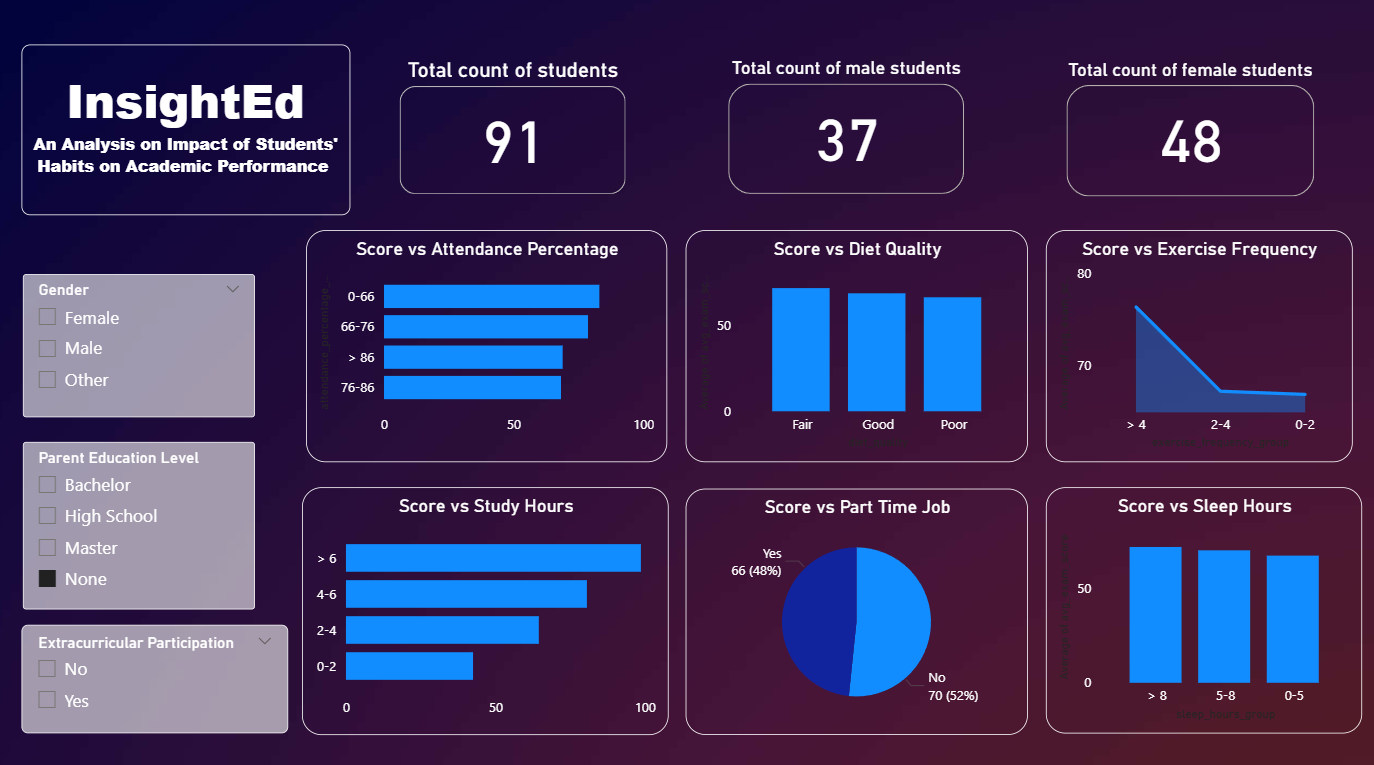

The dashboard page shown, as its layout file describes it:
{"tool":"powerbi","page":{"name":"Page 1","canvas":[1280,720],"ordinal":0},"visuals":[{"type":"cardVisual","title":"Total count of students","fields":{"Data":["Sum(dataset.count_of_students)"]},"box":[369.9,57.2,219.9,132.2],"z":0},{"type":"cardVisual","title":"Total count of female students","fields":{"Data":["Sum(dataset.count_of_students)"]},"box":[985.8,58.5,239.5,133],"z":1000},{"type":"cardVisual","title":"Total count of male students","fields":{"Data":["Sum(dataset.count_of_students)"]},"box":[673.1,57.2,228.8,131.7],"z":2000},{"type":"barChart","title":"Score vs Attendance Percentage","fields":{"Category":["dataset.attendance_percentage_group"],"Y":["Avg(dataset.avg_exam_score)"]},"box":[288.7,216.8,333.9,214.2],"z":3000},{"type":"clusteredColumnChart","title":"Score vs Diet Quality","fields":{"Y":["Avg(dataset.avg_exam_score)"],"Category":["dataset.diet_quality"]},"box":[639.9,216.8,316.6,214.2],"z":4000},{"type":"stackedAreaChart","title":"Score vs Exercise Frequency","fields":{"Category":["dataset.exercise_frequency_group"],"Y":["Avg(dataset.avg_exam_score)"]},"box":[972.5,216.8,283.4,214.2],"z":5000},{"type":"barChart","title":"Score vs Study Hours","fields":{"Category":["dataset.study_hours_per_day_group"],"Y":["Avg(dataset.avg_exam_score)"]},"box":[284.7,455,339.2,228.8],"z":6000},{"type":"pieChart","title":"Score vs Part Time Job","fields":{"Category":["dataset.part_time_job"],"Y":["Avg(dataset.avg_exam_score)"]},"box":[639.9,456.3,316.6,227.5],"z":7000},{"type":"clusteredColumnChart","title":"Score vs Sleep Hours","fields":{"Y":["Avg(dataset.avg_exam_score)"],"Category":["dataset.sleep_hours_group"]},"box":[972.5,455,292.7,227.5],"z":8000},{"type":"slicer","fields":{"Values":["dataset.gender"]},"box":[26.7,258,214.8,132.2],"z":9000},{"type":"slicer","fields":{"Values":["dataset.parental_education_level"]},"box":[26.7,413.1,214.8,155.1],"z":10000},{"type":"slicer","fields":{"Values":["dataset.extracurricular_participation"]},"box":[25.4,582.1,246.6,100.4],"z":11000},{"type":"textbox","box":[25.4,45.8,303.8,157.6],"z":12000}]}

Visuals, with their boxes in screenshot pixels (x1, y1, x2, y2), scaled from the page's 1280x720 canvas onto the 1374x765 screenshot:
"Total count of students" cardVisual: bbox=(397, 61, 633, 201)
"Total count of female students" cardVisual: bbox=(1058, 62, 1315, 203)
"Total count of male students" cardVisual: bbox=(723, 61, 968, 201)
"Score vs Attendance Percentage" barChart: bbox=(310, 230, 668, 458)
"Score vs Diet Quality" clusteredColumnChart: bbox=(687, 230, 1027, 458)
"Score vs Exercise Frequency" stackedAreaChart: bbox=(1044, 230, 1348, 458)
"Score vs Study Hours" barChart: bbox=(306, 483, 670, 727)
"Score vs Part Time Job" pieChart: bbox=(687, 485, 1027, 727)
"Score vs Sleep Hours" clusteredColumnChart: bbox=(1044, 483, 1358, 725)
slicer - dataset.gender: bbox=(29, 274, 259, 415)
slicer - dataset.parental_education_level: bbox=(29, 439, 259, 604)
slicer - dataset.extracurricular_participation: bbox=(27, 618, 292, 725)
textbox: bbox=(27, 49, 353, 216)
